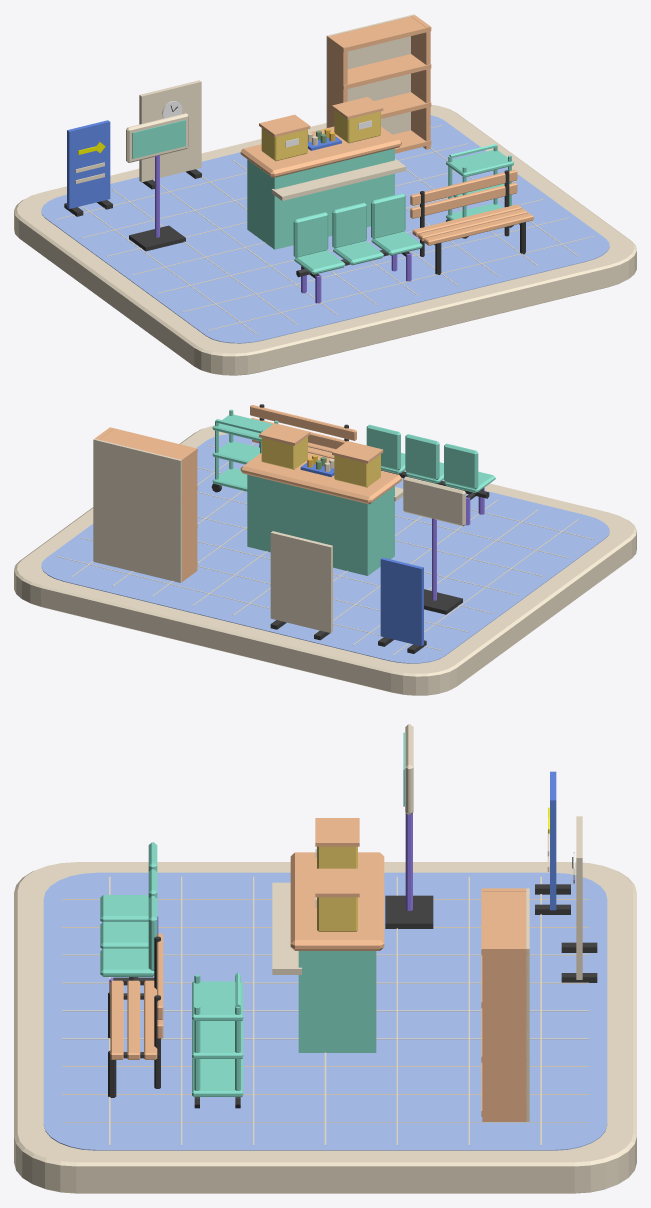
The picture shows the model from 3 angles, top to bottom: view 1: azimuth 30°, elevation 25°; view 2: azimuth 150°, elevation 25°; view 3: azimuth 270°, elevation 25°; orthographic projection. The views are drawn at different scales.
Parts seen in each view (by area): view 1: COM-02 Floor Surface, COM-01 Rounded Base Direct, Counter body, Panel.001, Panel, Back.003, Countertop, Side.001, Visitor shelf, Shelf.003, Shelf.002, Side (+21 smaller); view 2: COM-02 Floor Surface, COM-01 Rounded Base Direct, Back.003, Counter body, Panel.001, Panel, Countertop, Sign panel, Side, Back, Back.001, Shelf.003 (+11 smaller); view 3: COM-02 Floor Surface, COM-01 Rounded Base Direct, Counter body, Side.001, Countertop, Shelf.003, Visitor shelf, Tray.002, Tray, Tray.001, Foot, Seat.002 (+14 smaller).
Boxes of the visible parts, bbox=[...] form: COM-02 Floor Surface: bbox=[41, 115, 609, 343]; COM-01 Rounded Base Direct: bbox=[14, 104, 636, 375]; Counter body: bbox=[247, 148, 394, 249]; Panel.001: bbox=[139, 80, 201, 182]; Panel: bbox=[67, 120, 110, 208]; Back.003: bbox=[326, 14, 414, 134]; Countertop: bbox=[240, 126, 401, 177]; Side.001: bbox=[411, 15, 430, 149]; Visitor shelf: bbox=[271, 159, 406, 200]; Shelf.003: bbox=[333, 16, 431, 52]; Shelf.002: bbox=[343, 54, 431, 89]; Side: bbox=[327, 35, 347, 127]; COM-02 Floor Surface: bbox=[41, 434, 609, 663]; COM-01 Rounded Base Direct: bbox=[14, 425, 636, 695]; Back.003: bbox=[93, 438, 181, 582]; Counter body: bbox=[247, 474, 394, 575]; Panel.001: bbox=[270, 531, 332, 633]; Panel: bbox=[380, 557, 423, 646]; Countertop: bbox=[240, 452, 401, 504]; Sign panel: bbox=[403, 476, 465, 526]; Side: bbox=[178, 447, 197, 581]; Back: bbox=[444, 443, 478, 489]; Back.001: bbox=[405, 434, 439, 479]; Shelf.003: bbox=[99, 427, 197, 461]; COM-02 Floor Surface: bbox=[43, 872, 607, 1150]; COM-01 Rounded Base Direct: bbox=[14, 862, 636, 1193]; Counter body: bbox=[298, 951, 376, 1052]; Side.001: bbox=[482, 946, 527, 1121]; Countertop: bbox=[290, 852, 384, 950]; Shelf.003: bbox=[481, 888, 529, 955]; Visitor shelf: bbox=[272, 882, 301, 974]; Tray.002: bbox=[192, 981, 243, 1020]; Tray: bbox=[192, 1058, 243, 1096]; Tray.001: bbox=[192, 1020, 243, 1058]; Foot: bbox=[385, 895, 433, 928]; Seat.002: bbox=[100, 948, 154, 976].
Bounding box in the file's own units: 6 × 1.9 × 5.2.
1 material, 1 textured.
